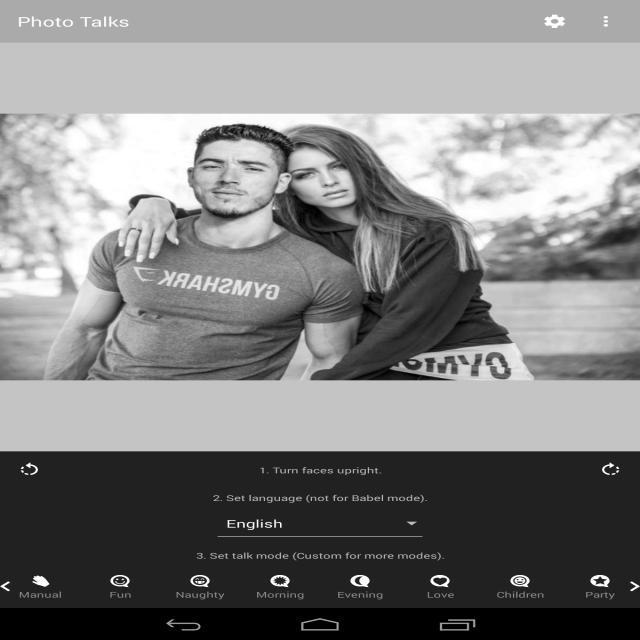Button: (0, 565, 80, 608), (80, 565, 160, 608), (160, 565, 240, 608), (240, 565, 320, 608), (320, 565, 400, 608), (400, 565, 480, 608), (480, 565, 560, 608), (560, 565, 640, 608)
ImageButton: (0, 451, 59, 488), (581, 451, 640, 488)
ImageView: (0, 43, 640, 451), (0, 582, 10, 592), (630, 582, 640, 592)
Spinner: (213, 510, 427, 540)
TextView: (0, 464, 640, 476), (0, 492, 640, 503), (0, 550, 640, 561), (218, 516, 405, 531), (17, 12, 130, 30), (580, 5, 632, 38), (529, 5, 580, 38)
